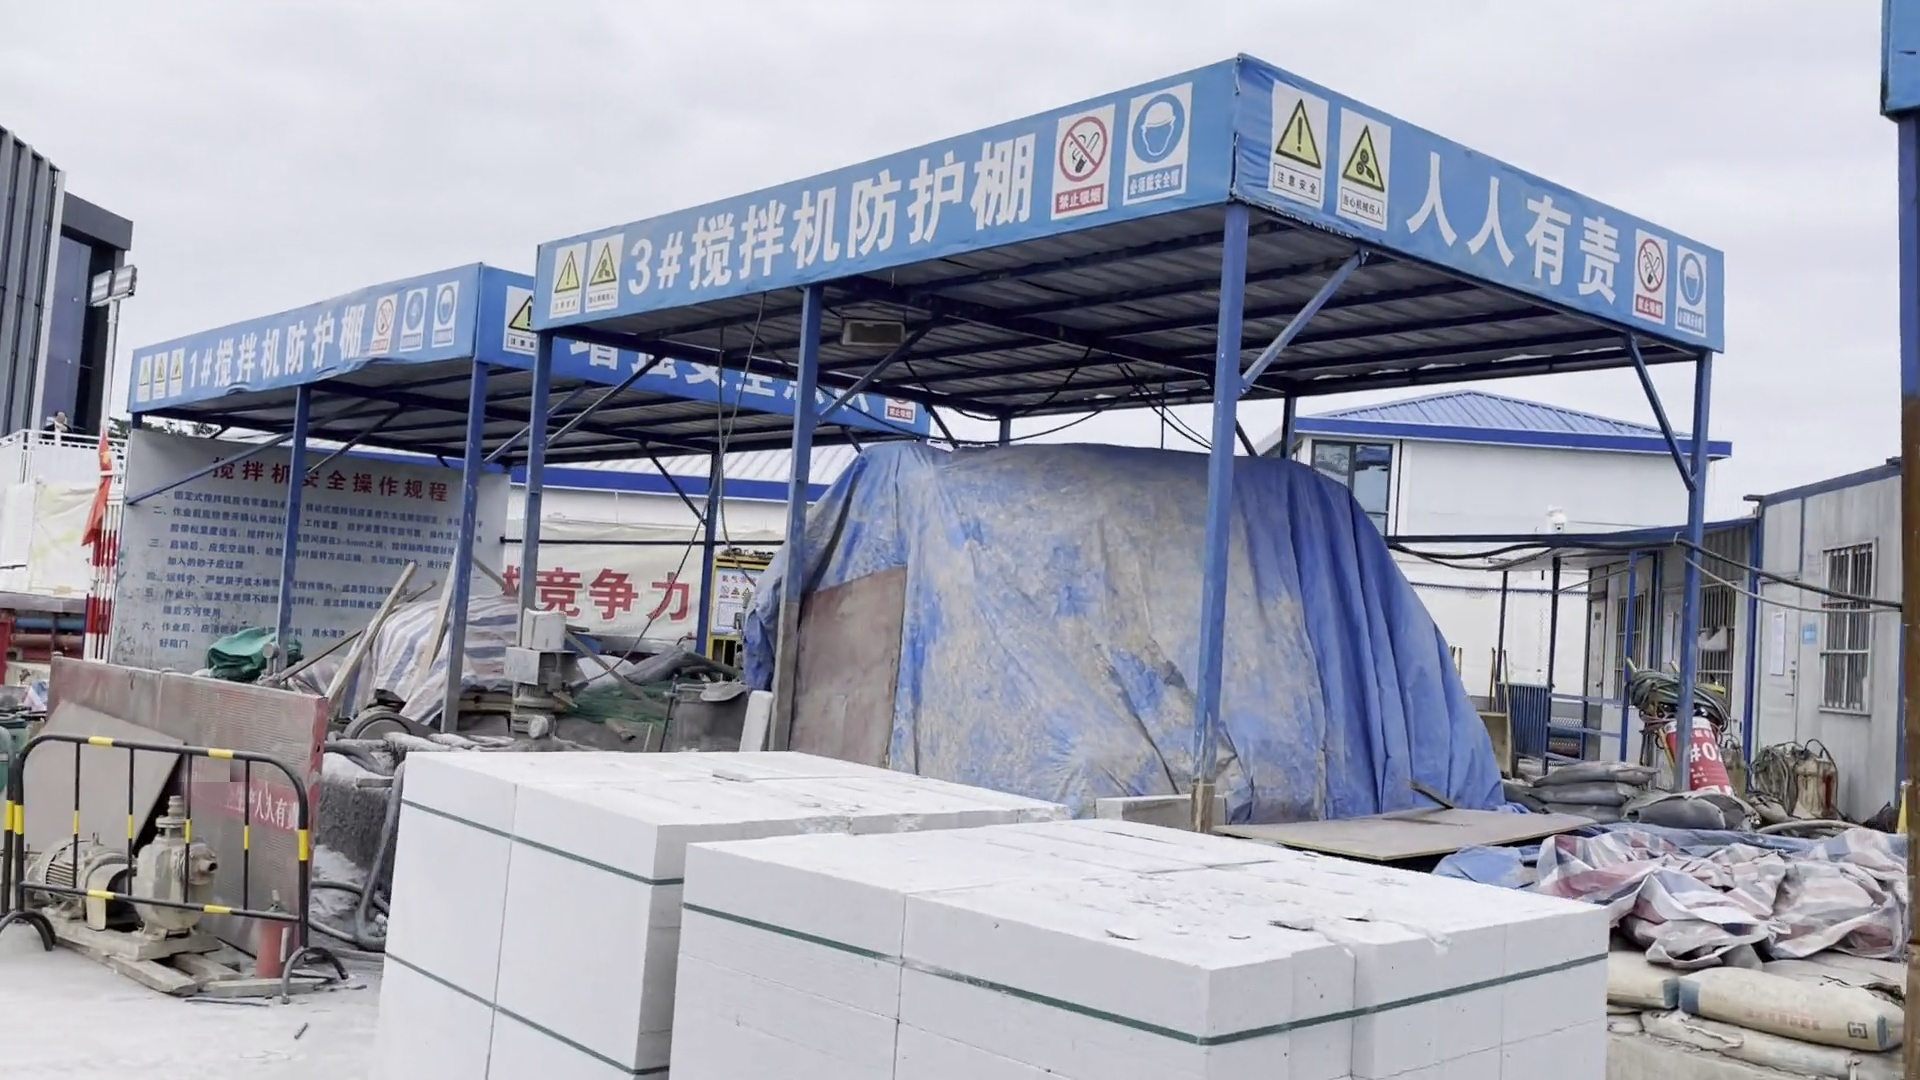brick: (373, 748, 1615, 1079)
slogan: (1390, 142, 1636, 311)
